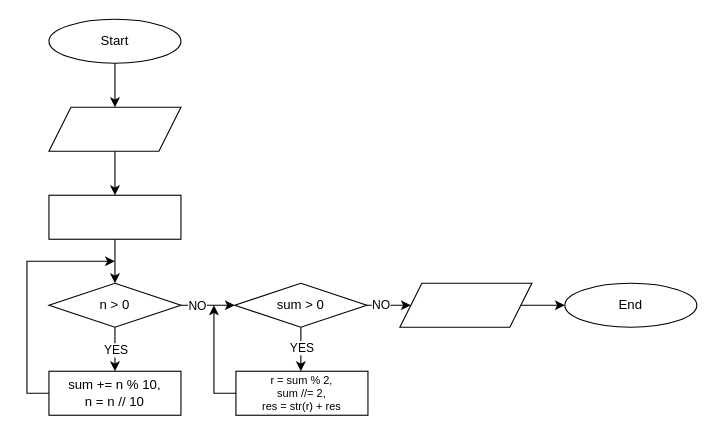
This 716x435 diagram has some shape labels left out. Each missing label, with the centre of its shape:
n: int: pixel 114 128
res: string: pixel 465 304
sum = 0, res = "": pixel 114 216
